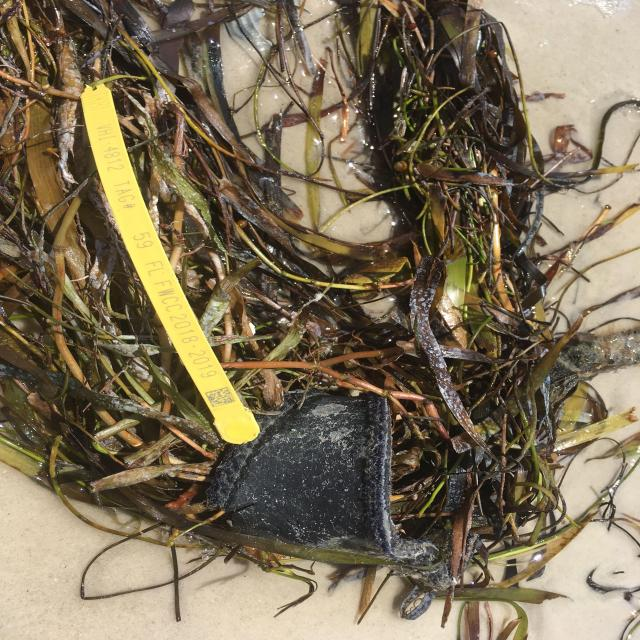litter: (80, 83, 259, 444), (205, 390, 481, 592)
